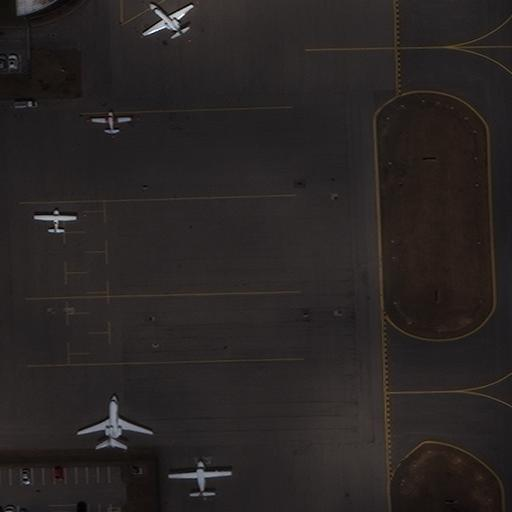Medium Civil Transport: (76, 395, 153, 447), (167, 460, 231, 496), (141, 4, 193, 35)
Small Civil Transport: (33, 209, 76, 232), (90, 112, 132, 134)
